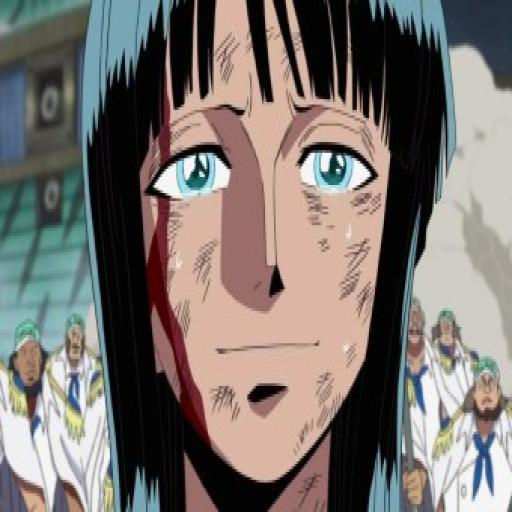NicoRobin: (81, 0, 442, 495)
